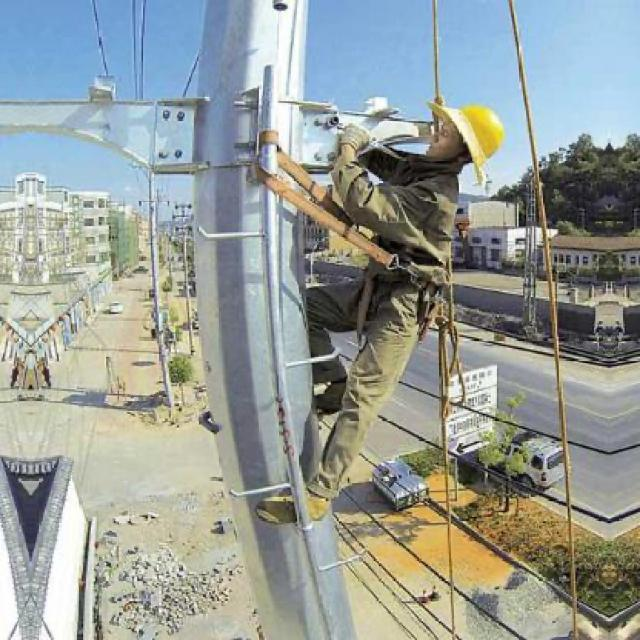helmet: (423, 95, 515, 180)
